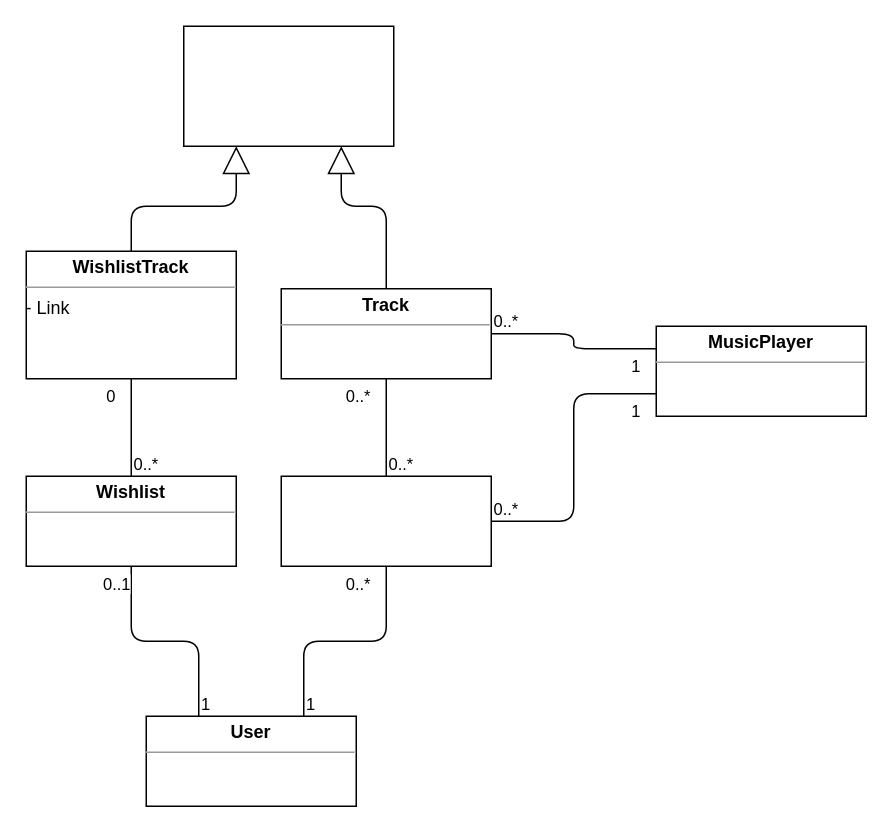
Image size: 893x833. Some labels were removed from this diagram. Here are the shapes that lost their labels. From the top down, the centre of each, then its label:
the point at 288,85: AbstractTrack - Name - Artist
the point at 385,520: Playlist
